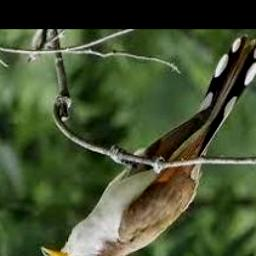Cuckoo: (42, 35, 256, 256)
